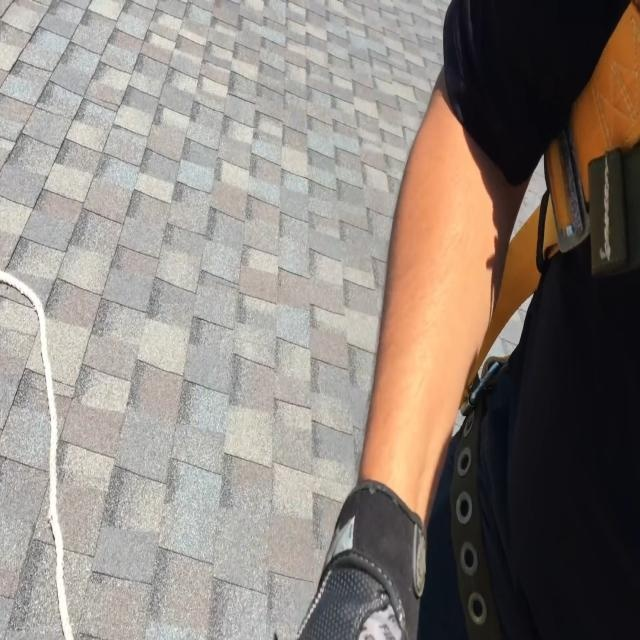Arnes_seguridad: (419, 0, 640, 640)
